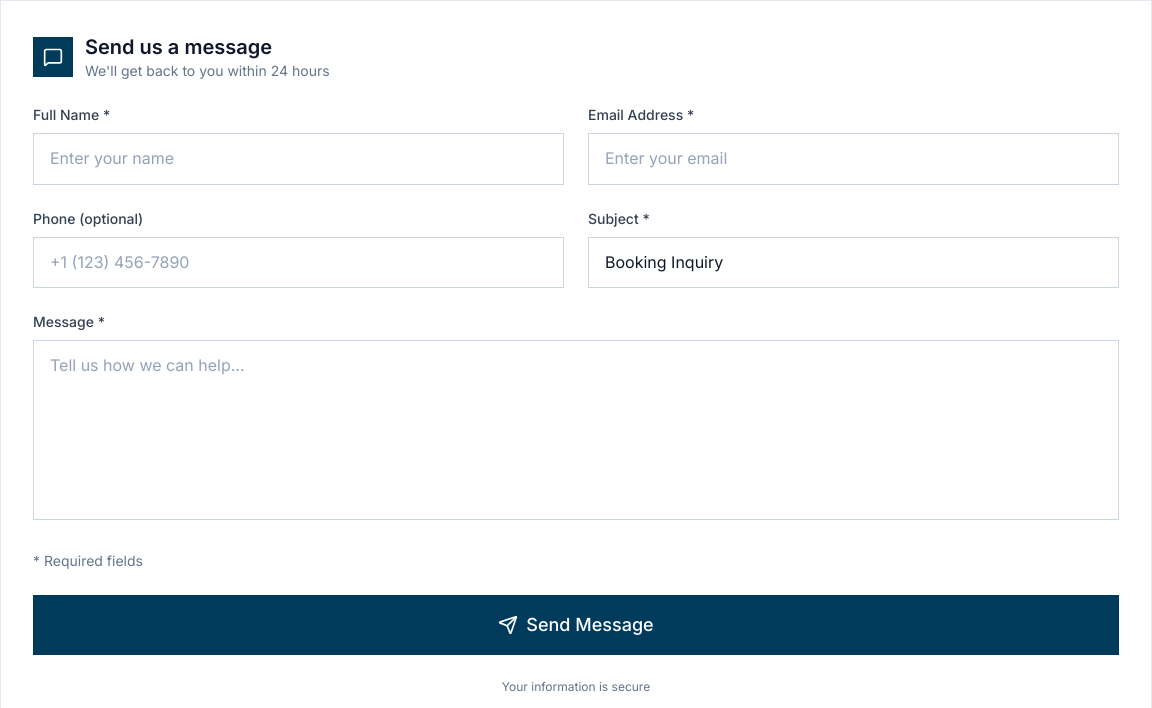
Test: ContactForm › validates email format
In the field with placeholder "Enter your name": {"x": 298, "y": 159} [33,133,564,185], type "Test User"
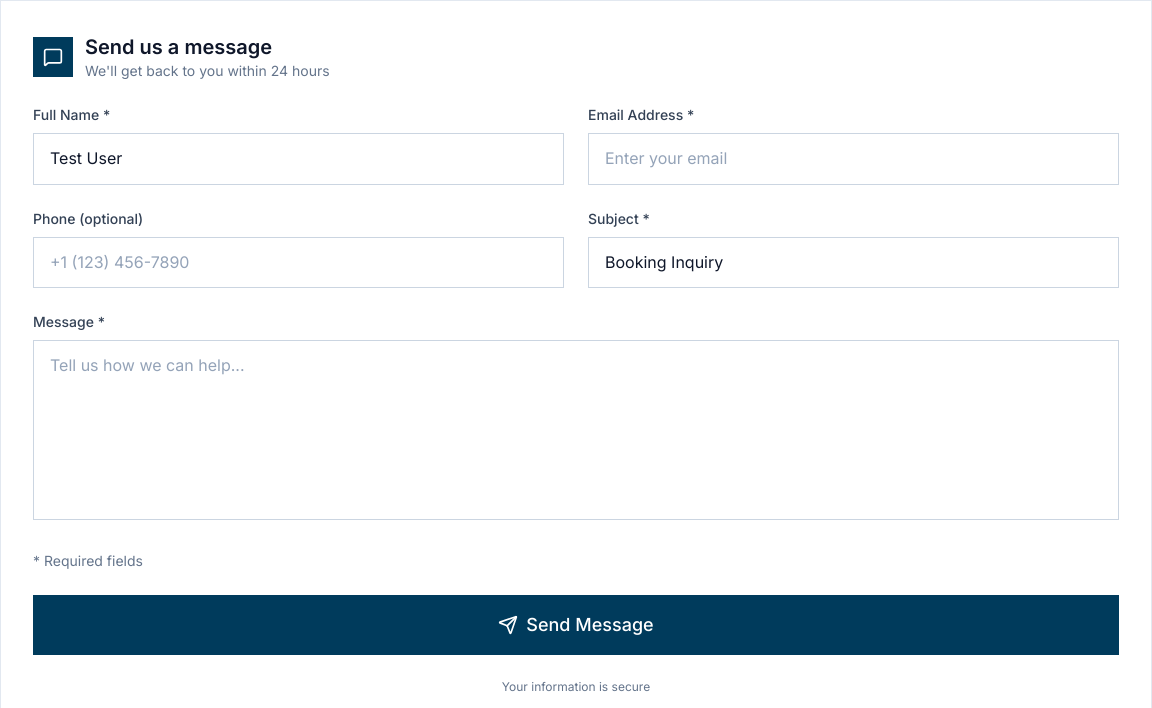
In the field with placeholder "Enter your email": {"x": 854, "y": 159} [588,133,1119,185], type "invalid-email"
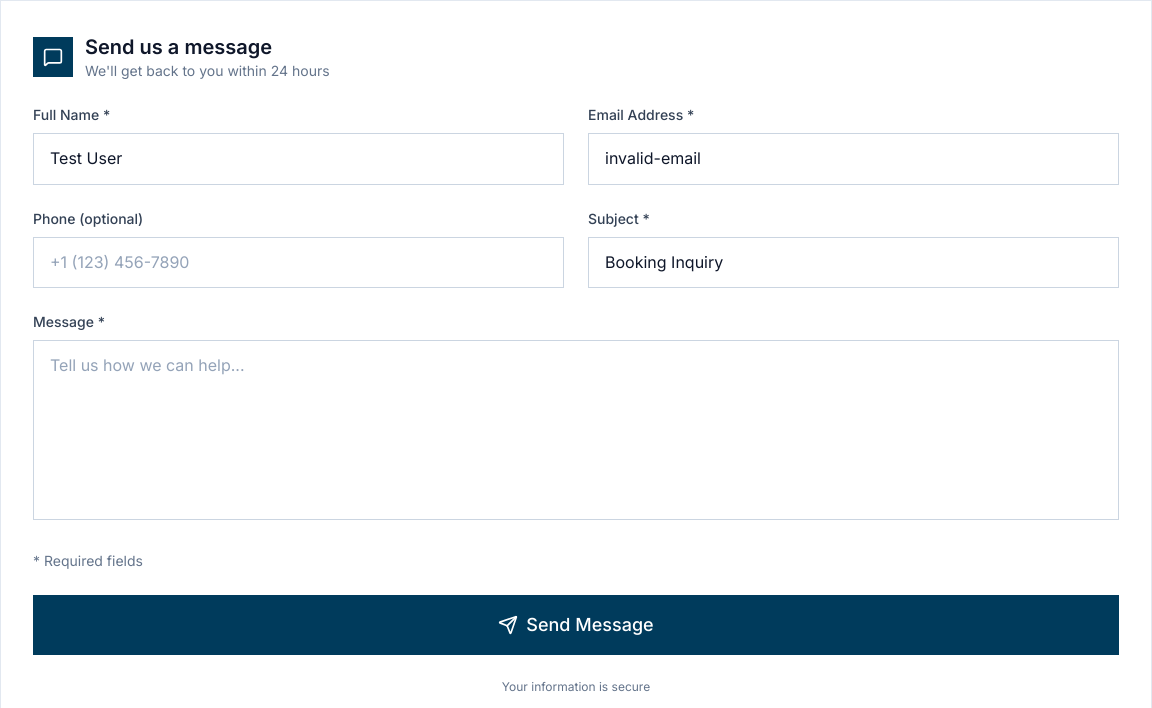
In the text box with placeholder "Tell us how we can help...": {"x": 576, "y": 430} [33,340,1119,520], type "This is a test message long enough"
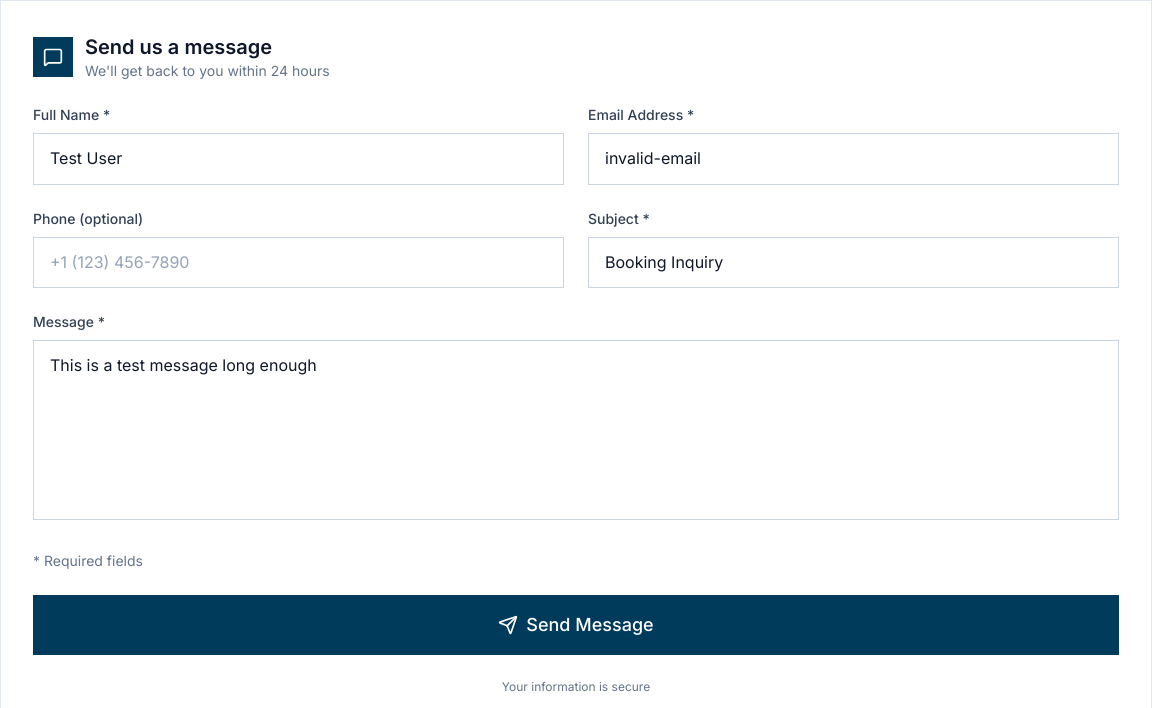
Submit the form named "Send Message"
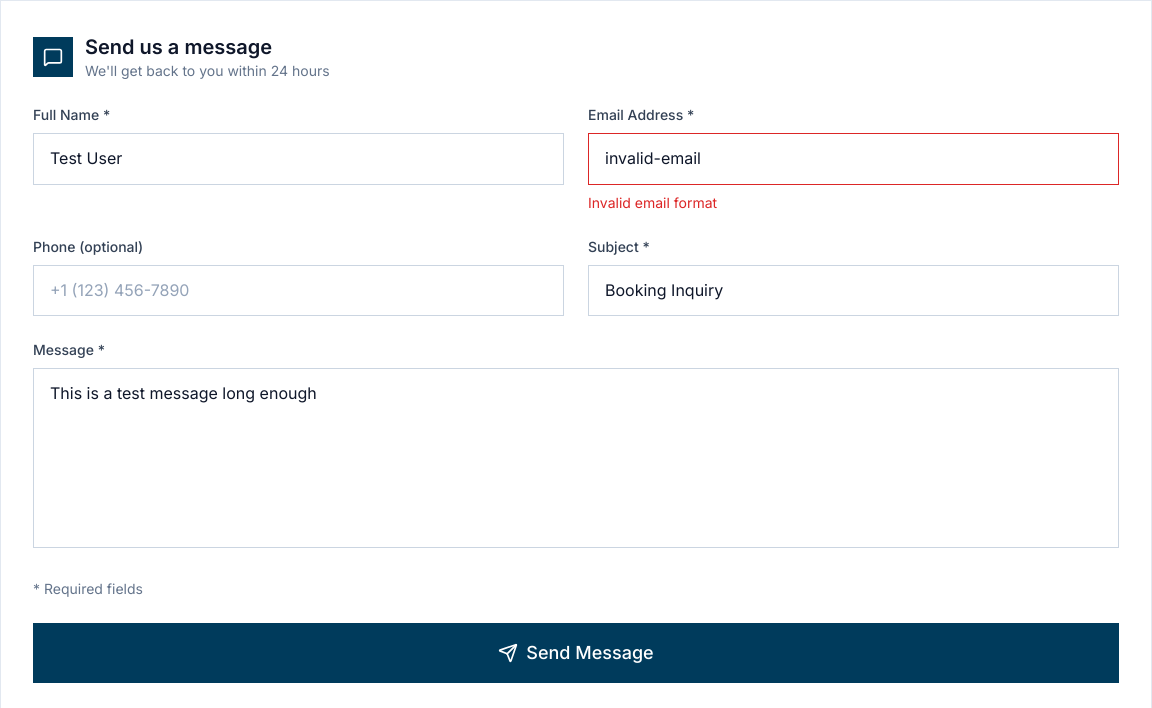
Now the text "Invalid email format" is shown, box [588,194,717,211]
